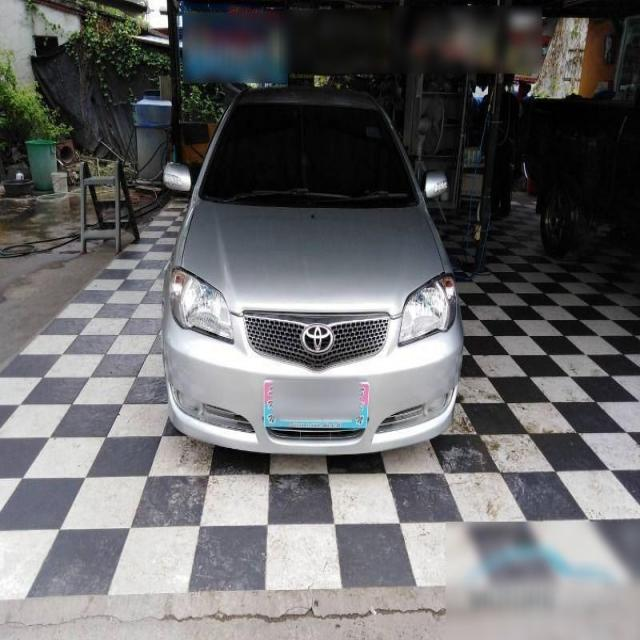front_bumper: (161, 301, 464, 456)
front_glass: (199, 101, 420, 208)
front_left_light: (399, 274, 456, 346)
front_right_light: (170, 267, 232, 345)
hood: (182, 201, 444, 318)
left_mirror: (422, 168, 449, 199)
right_mirror: (163, 161, 194, 191)
